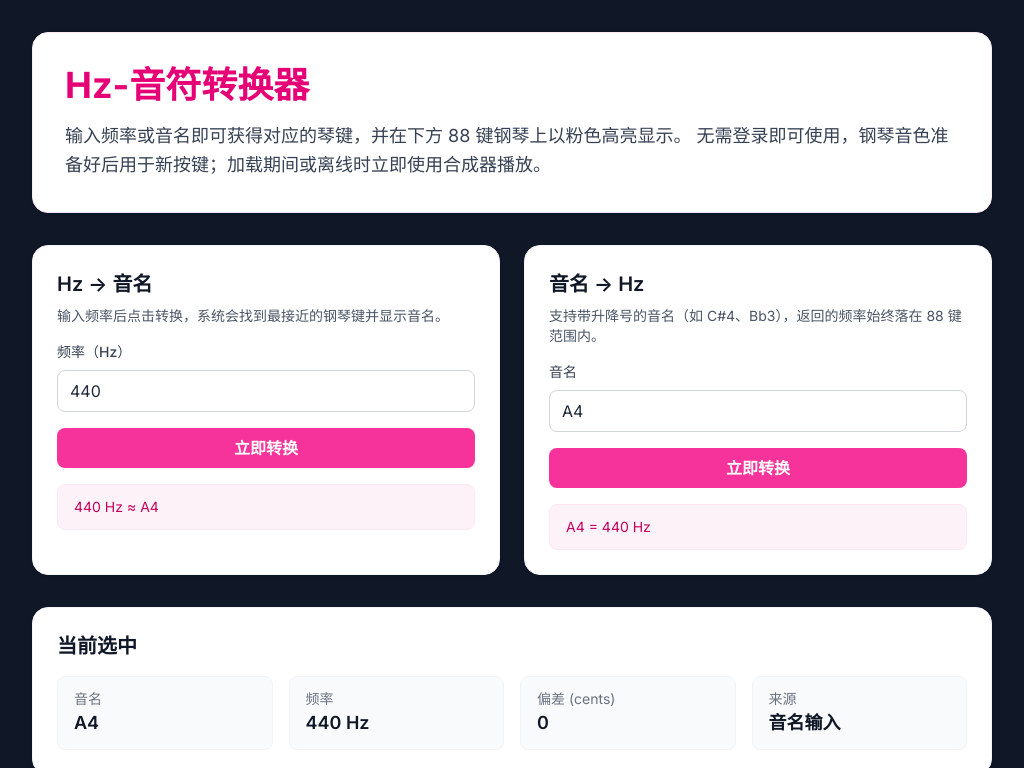
Test: C0转换的等式与输入、高亮琴键一致
The width and height of the screenshot is (1024, 768).
Replace the text in the field labelled "音名" with "C0" at coordinates (758, 410), box [549,390,967,432]
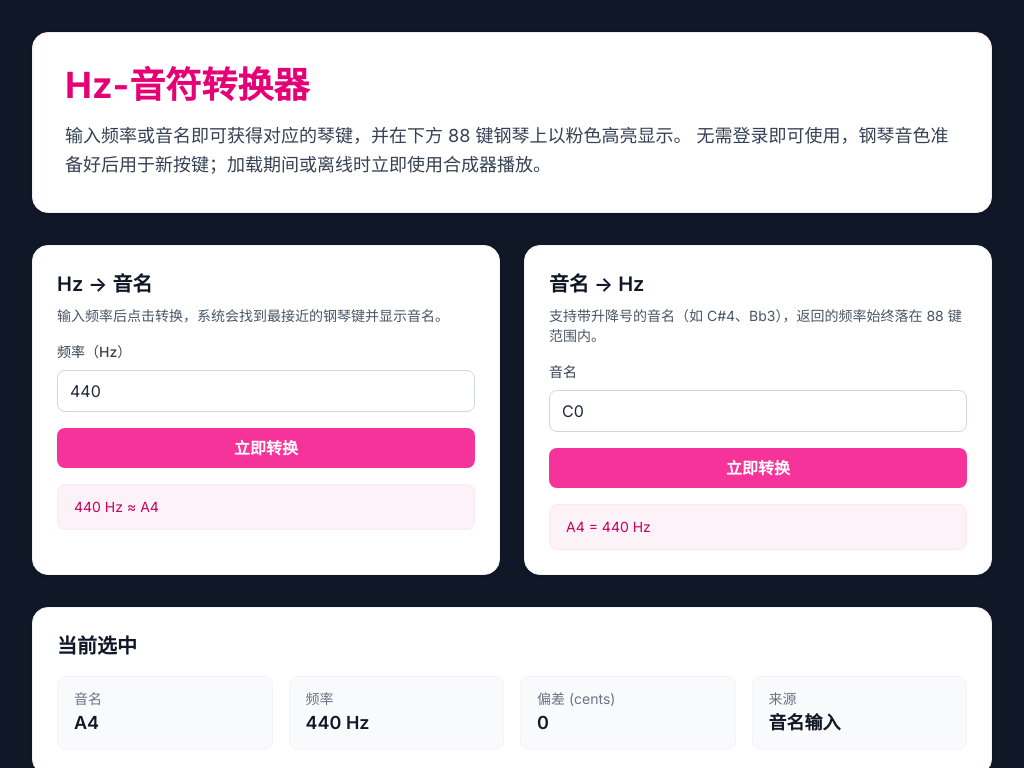
Submit the form "音名", box [524,244,992,574]
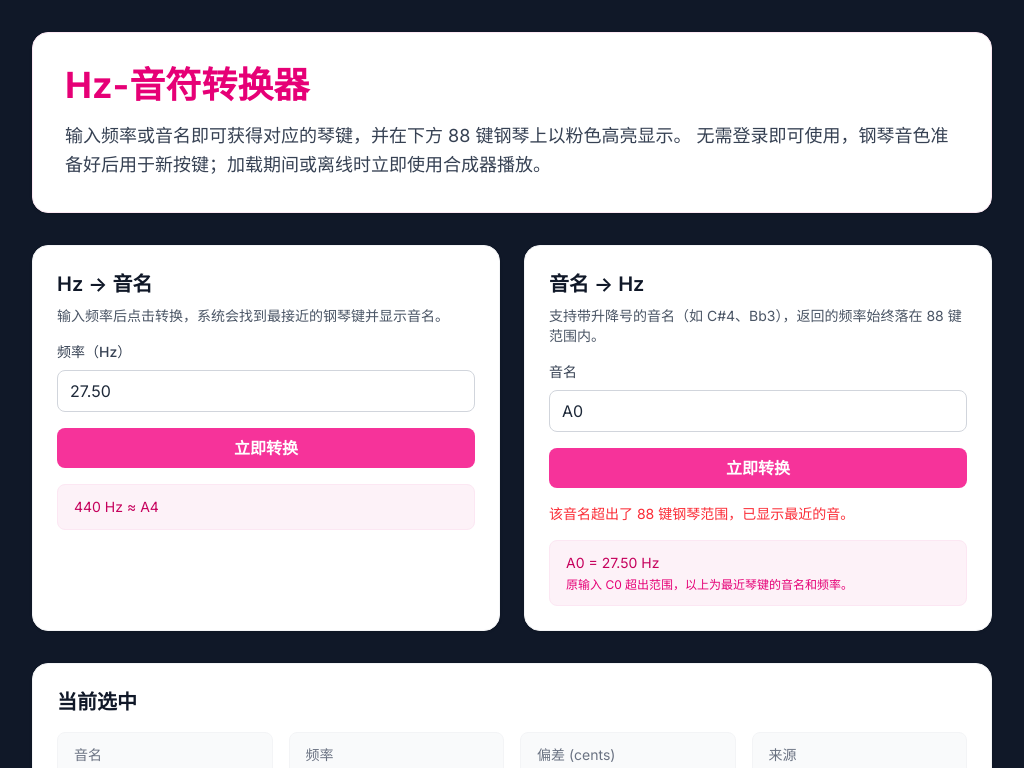
Expected: the field labelled "音名" holds "A0", [549,390,967,432]
Expected: the field labelled "频率（Hz）" holds "27.50", [57,370,475,412]
